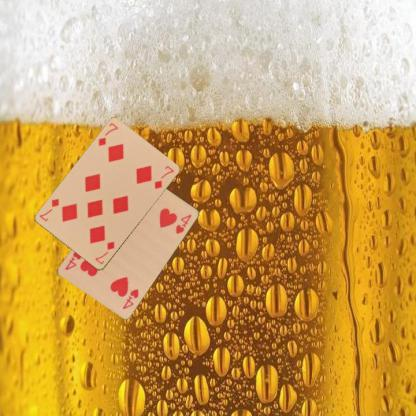4h: (119, 286, 140, 310)
7d: (92, 238, 116, 266), (96, 121, 120, 148)
